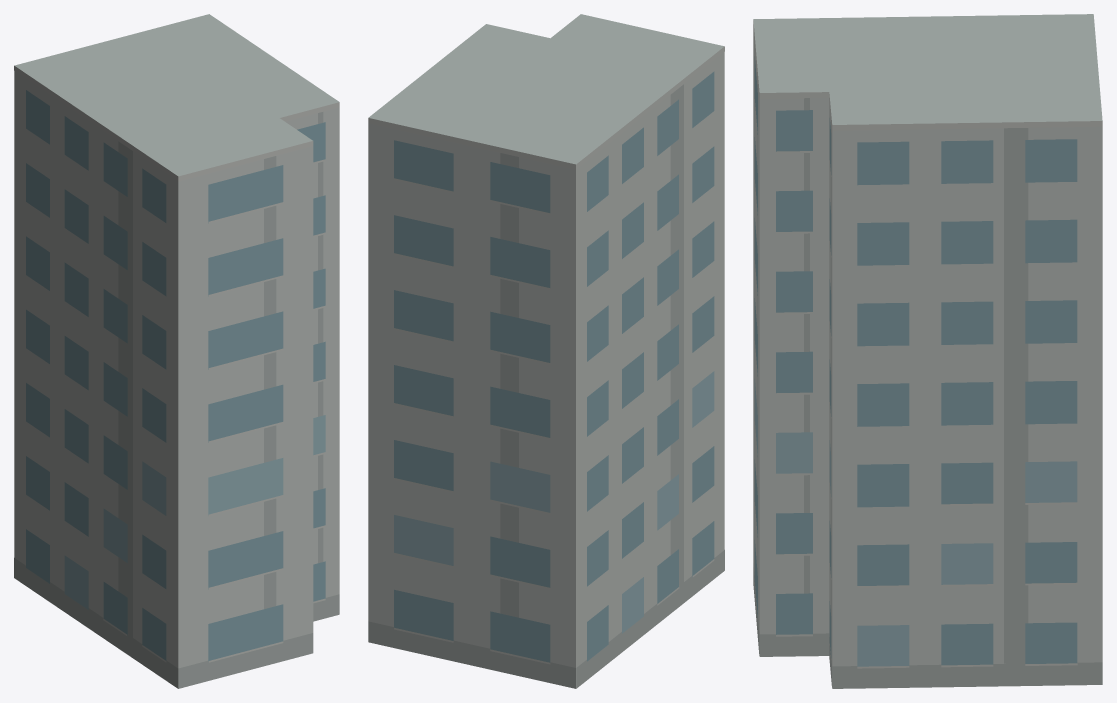
The model's file is survey-upis-32970746.glb.
The picture shows the model from 3 angles, left to right: view 1: azimuth 30°, elevation 25°; view 2: azimuth 150°, elevation 25°; view 3: azimuth 270°, elevation 25°; orthographic projection. The views are drawn at different scales.
Parts seen in each view (by area): view 1: survey-upis-32970746.tmp; view 2: survey-upis-32970746.tmp; view 3: survey-upis-32970746.tmp.
Boxes of the visible parts, left/top/right/bottom form: survey-upis-32970746.tmp: left=14, top=14, right=339, bottom=688; survey-upis-32970746.tmp: left=368, top=14, right=724, bottom=688; survey-upis-32970746.tmp: left=753, top=14, right=1102, bottom=688.
Size of the model in its own units: 10.06 by 23.8 by 13.37.
